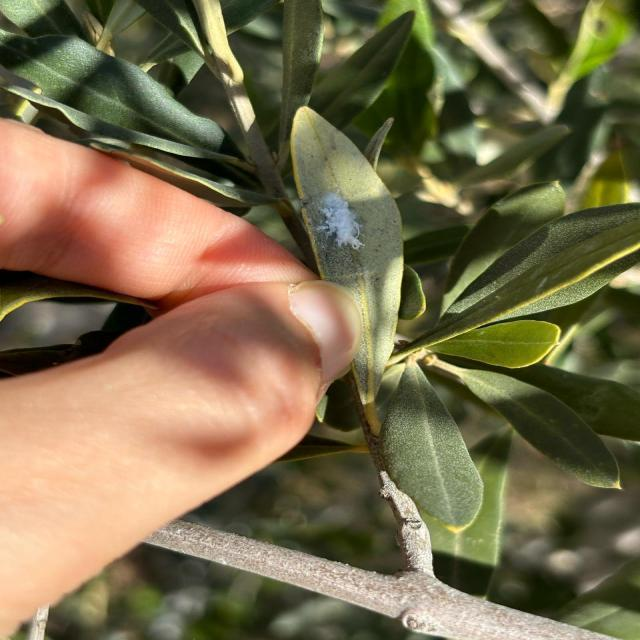Psyllid: (302, 178, 402, 279)
